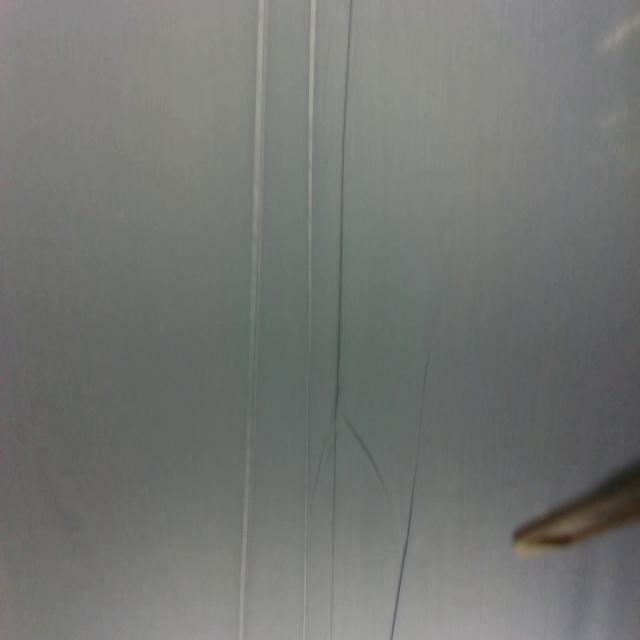crease: (238, 0, 270, 640), (328, 0, 356, 640), (388, 348, 433, 640), (302, 0, 317, 639), (339, 410, 392, 505)
